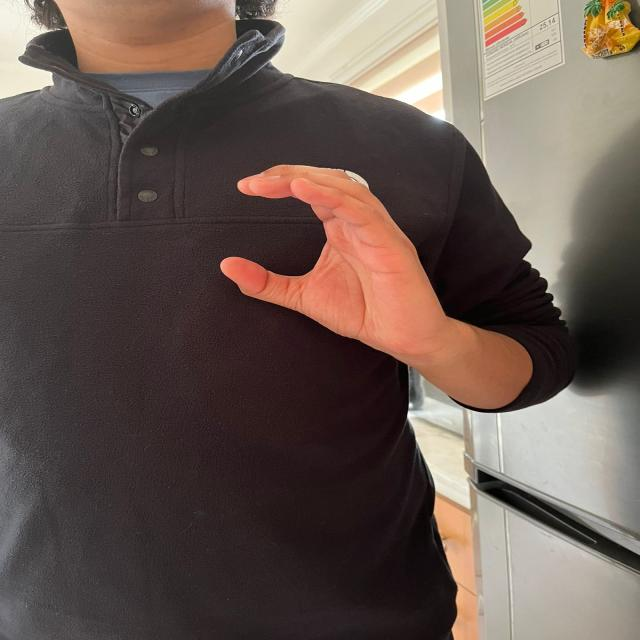C: (215, 157, 440, 351)
